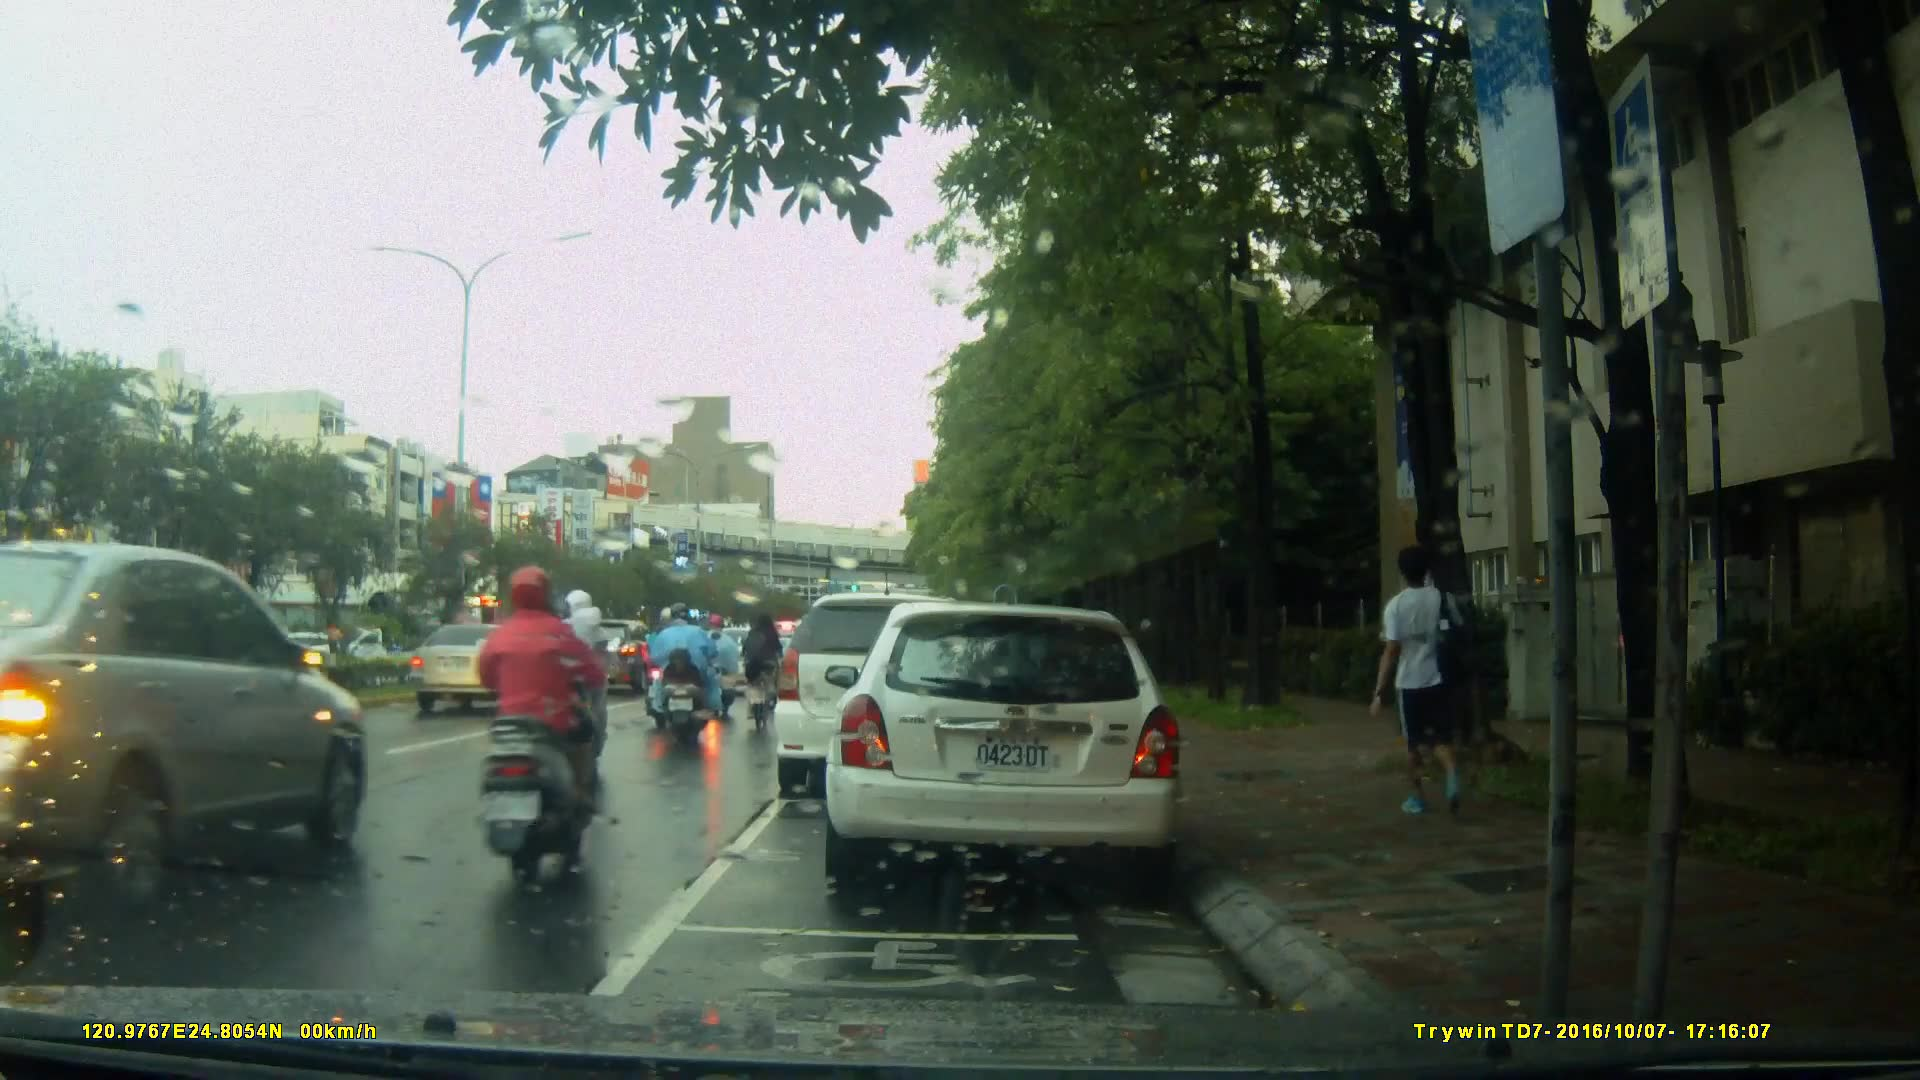pedestrian: (1383, 532, 1486, 844)
rider: (477, 567, 606, 886), (534, 597, 614, 786), (649, 606, 716, 750), (746, 606, 789, 744), (696, 609, 745, 715)
vehicle: (3, 537, 369, 934), (822, 604, 1188, 882), (774, 595, 995, 802), (408, 621, 554, 718)
